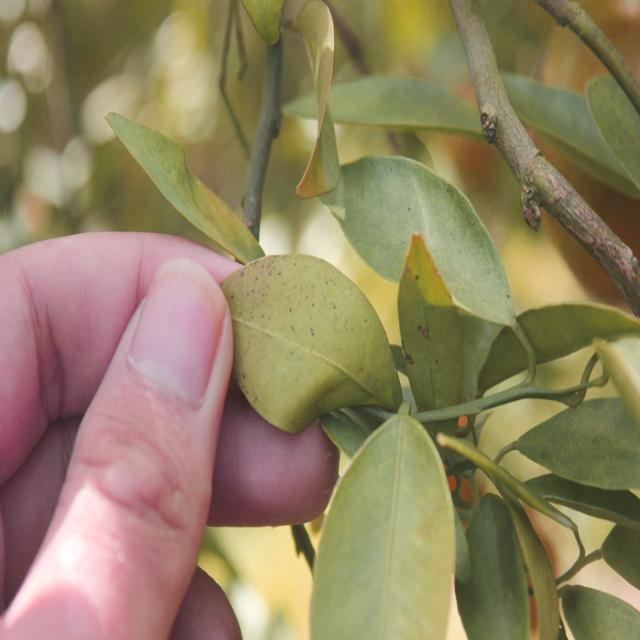blackspot: (227, 259, 379, 426), (383, 167, 506, 323), (398, 245, 463, 400)
